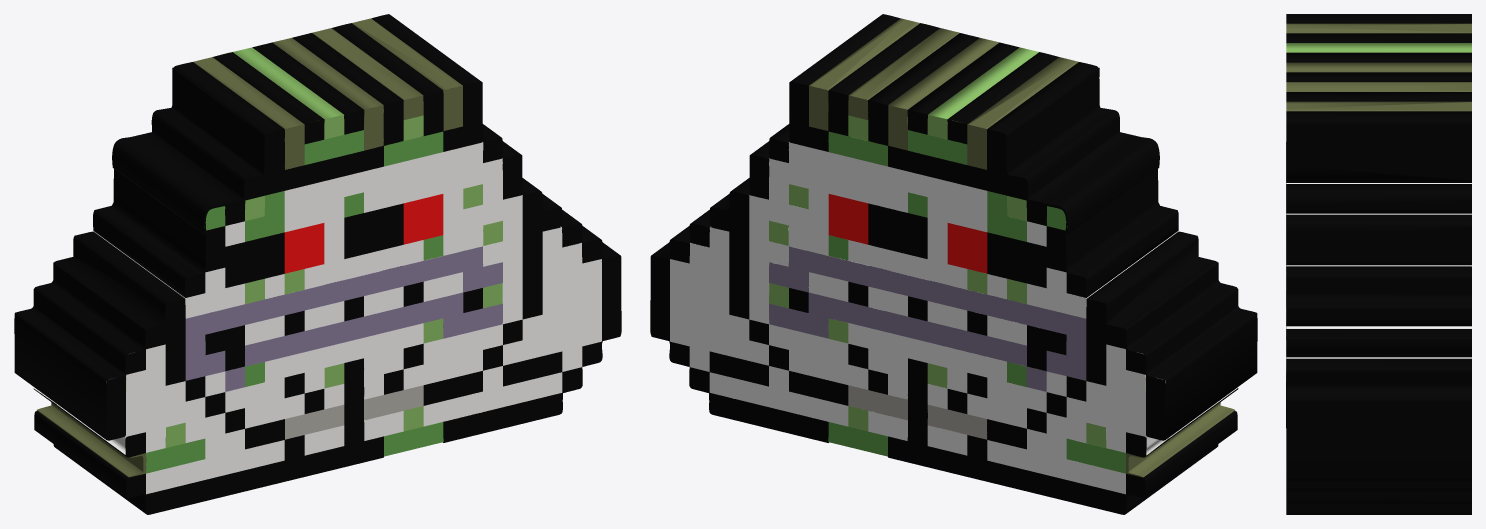
Rendered from Toadz_1362.glb.
3 renders of one model, left to right at view 1: azimuth 30°, elevation 25°; view 2: azimuth 150°, elevation 25°; view 3: azimuth 270°, elevation 25°, orthographic.
Visible parts, largest first — view 1: Curve; view 2: Curve; view 3: Curve.
Boxes of the visible parts, x1,y1,x2,y2 form: Curve: (14,14,621,514); Curve: (650,14,1257,514); Curve: (1286,14,1471,514).
Size of the model in its own units: 3.23 by 2.12 by 1.
